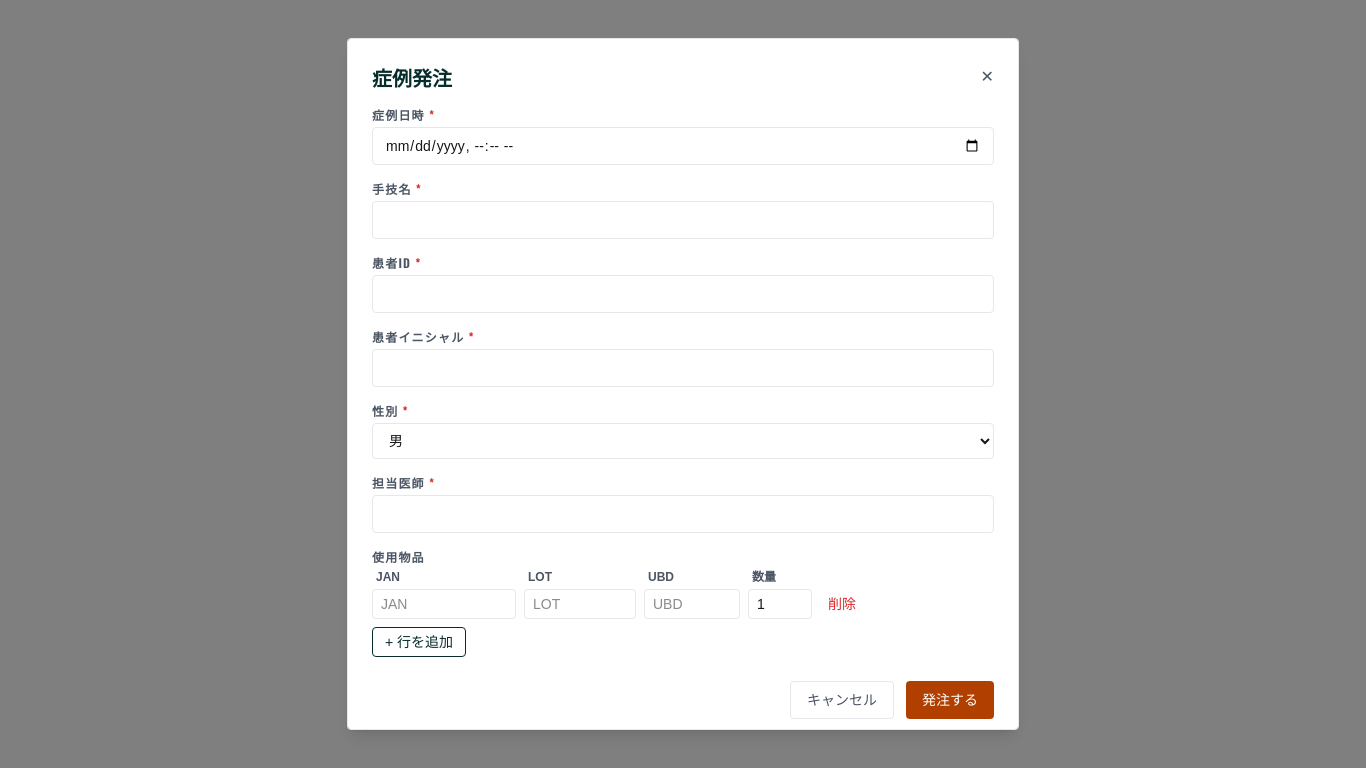
CaseOrderModal 空送信防止 › 手技名以外の必須項目（患者ID等）が空のまま送信するとfetchが呼ばれずエラーが表示される
Type "カテーテル手技" into the field labelled "手技名 *".
click(683, 220); type("カテーテル手技")  # box [372,201,994,239]
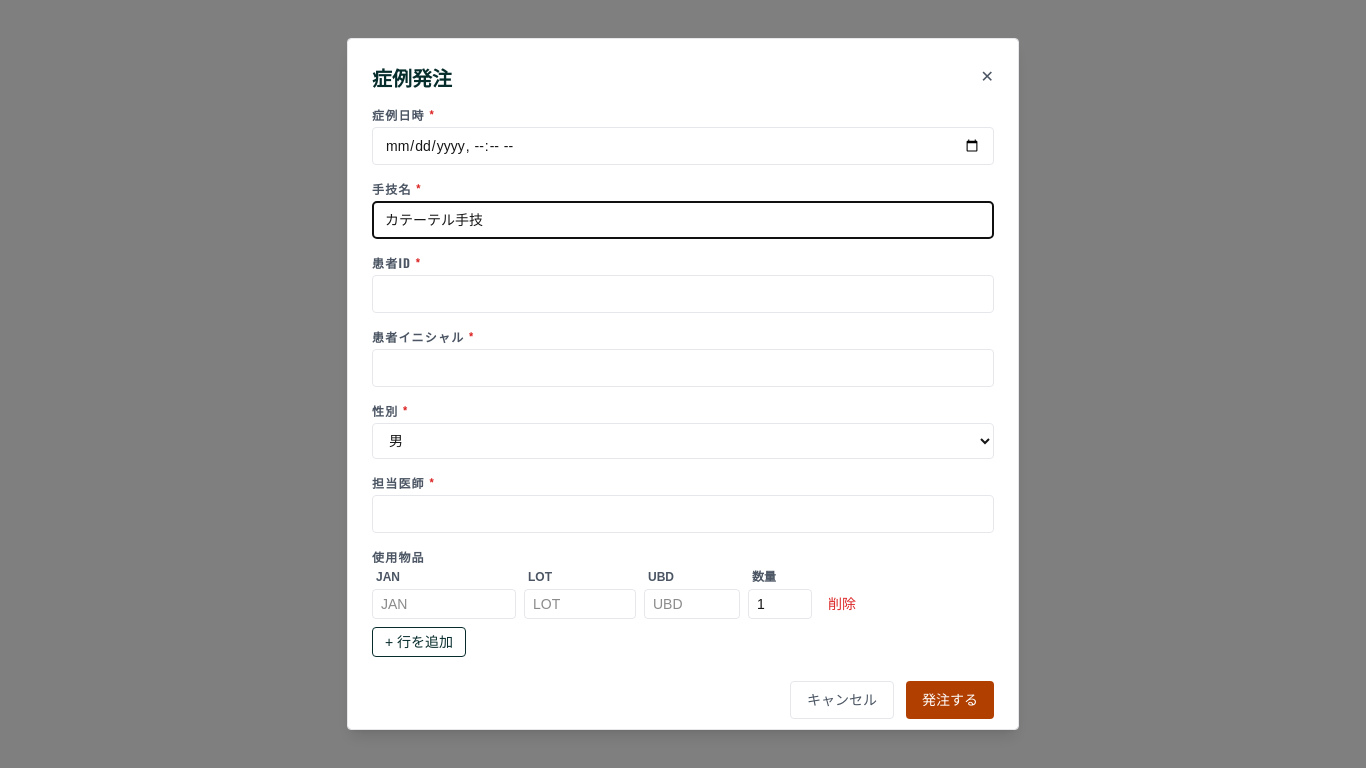
Click the button "発注する".
click(950, 700)  # box [906,681,994,719]
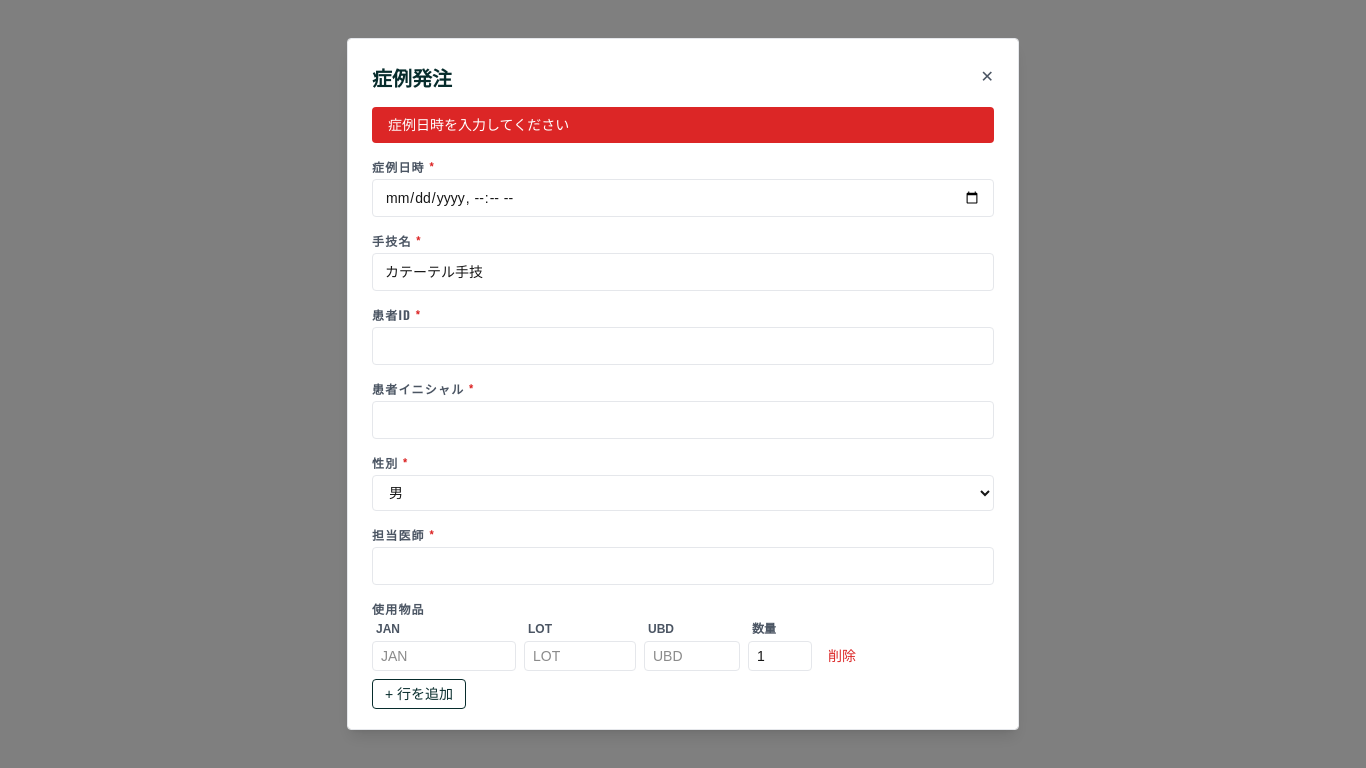
expect the text "症例日時を入力してください" is shown: met, box [372,107,994,143]
